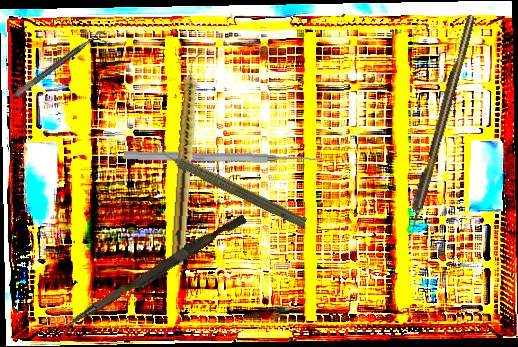Fixation Ring: (13, 27, 113, 105)
Handpiece: (150, 139, 310, 231), (170, 52, 203, 266)
Hook Surgical: (401, 14, 478, 245)
Pusher: (63, 209, 248, 336), (123, 149, 324, 166)
